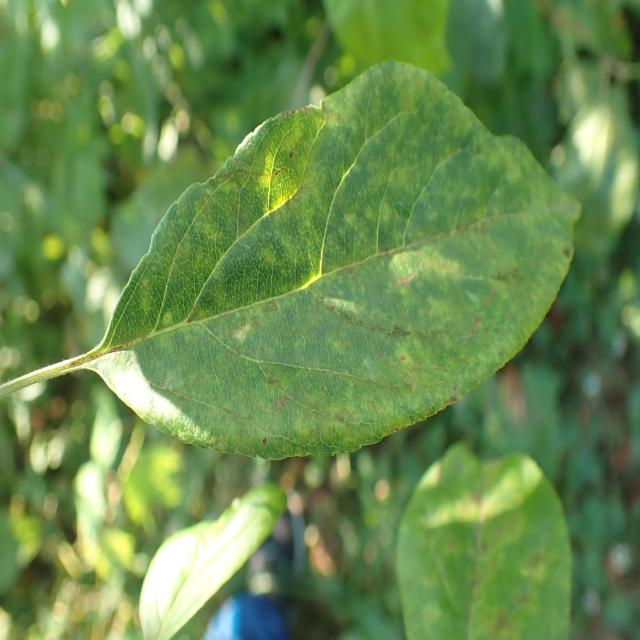scab: (121, 121, 576, 444), (406, 453, 574, 640)
